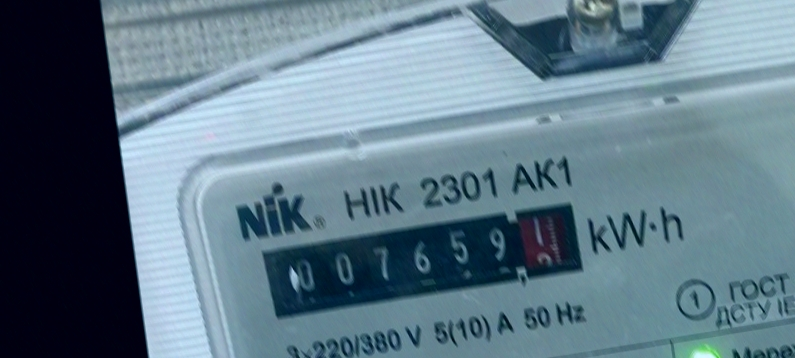0: (332, 247, 360, 287), (294, 253, 320, 294)
1: (529, 210, 550, 248)
5: (448, 226, 473, 265)
6: (409, 236, 436, 275)
7: (370, 241, 396, 282)
9: (486, 223, 512, 262)
screen: (253, 194, 596, 327)
